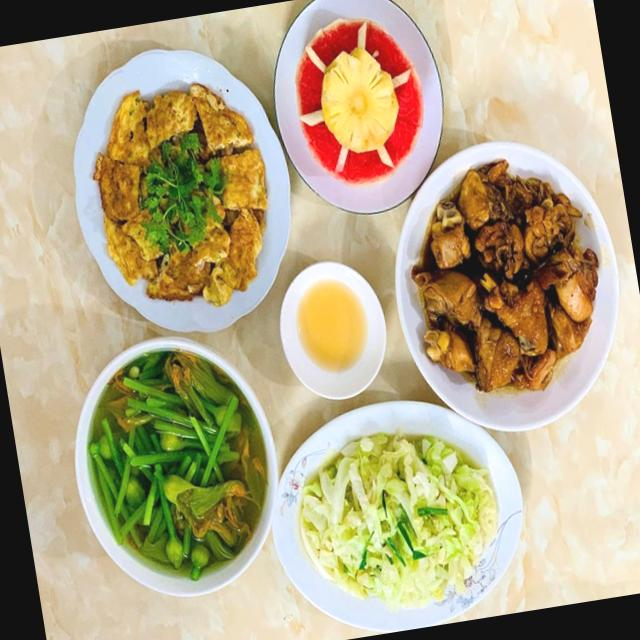ga kho: (409, 158, 600, 388)
nuoc mam: (298, 279, 368, 374)
rau: (301, 432, 498, 608)
trung chien: (92, 83, 268, 306)
